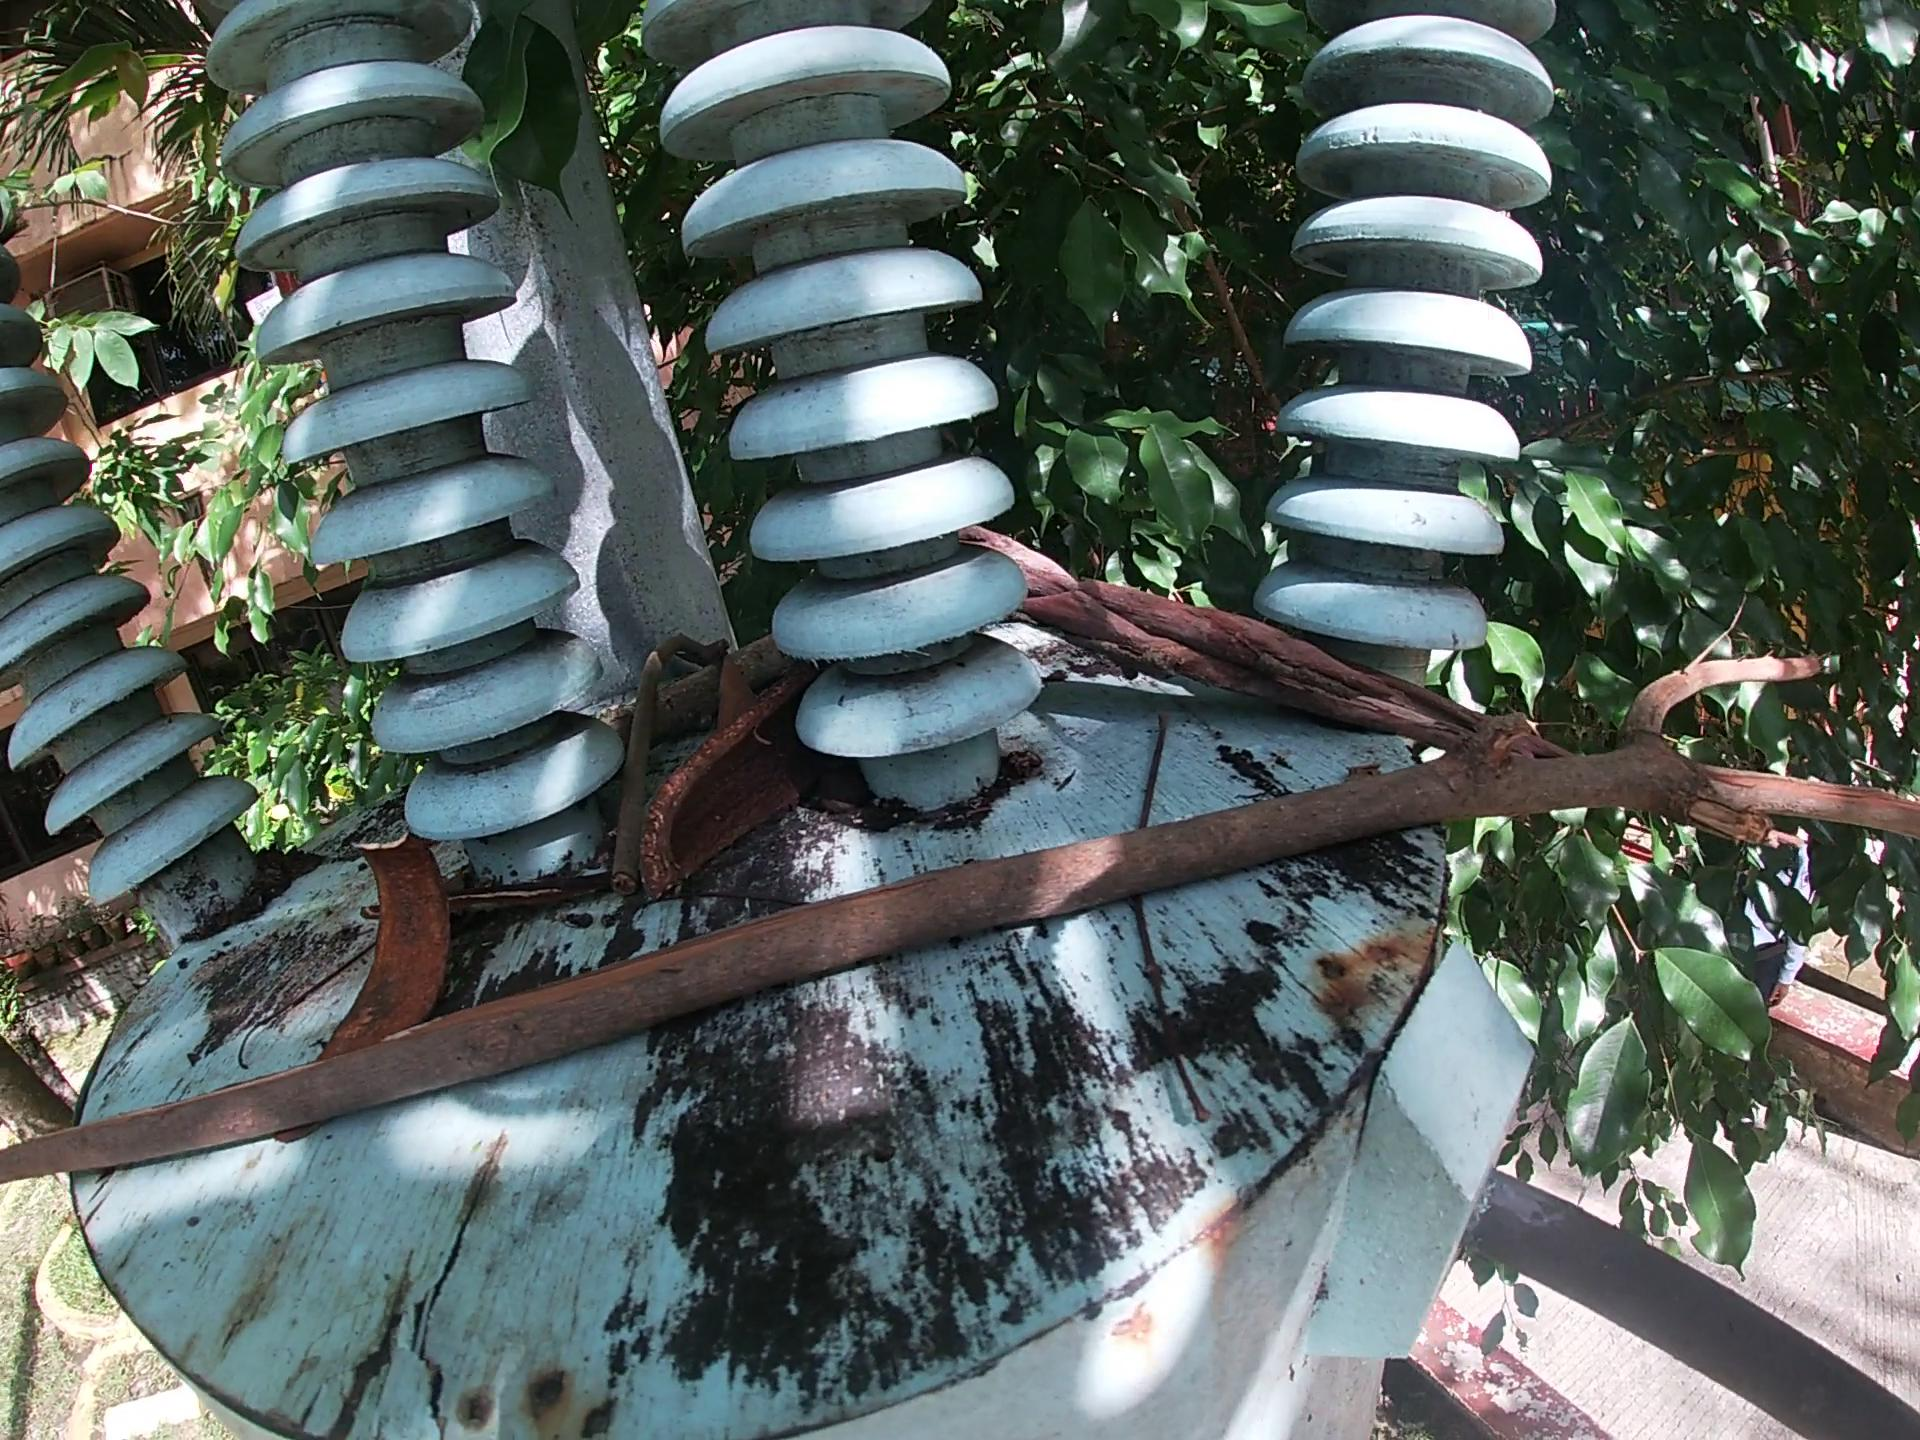leaf: (714, 656, 779, 722)
mahogany fruit: (652, 670, 818, 902), (299, 827, 455, 1051)
tree branch: (5, 661, 1920, 1215), (958, 520, 1474, 746), (599, 631, 727, 886), (1123, 906, 1215, 1141), (627, 643, 785, 756), (234, 942, 373, 1068), (1107, 706, 1178, 829), (447, 874, 596, 918), (630, 892, 807, 909)
